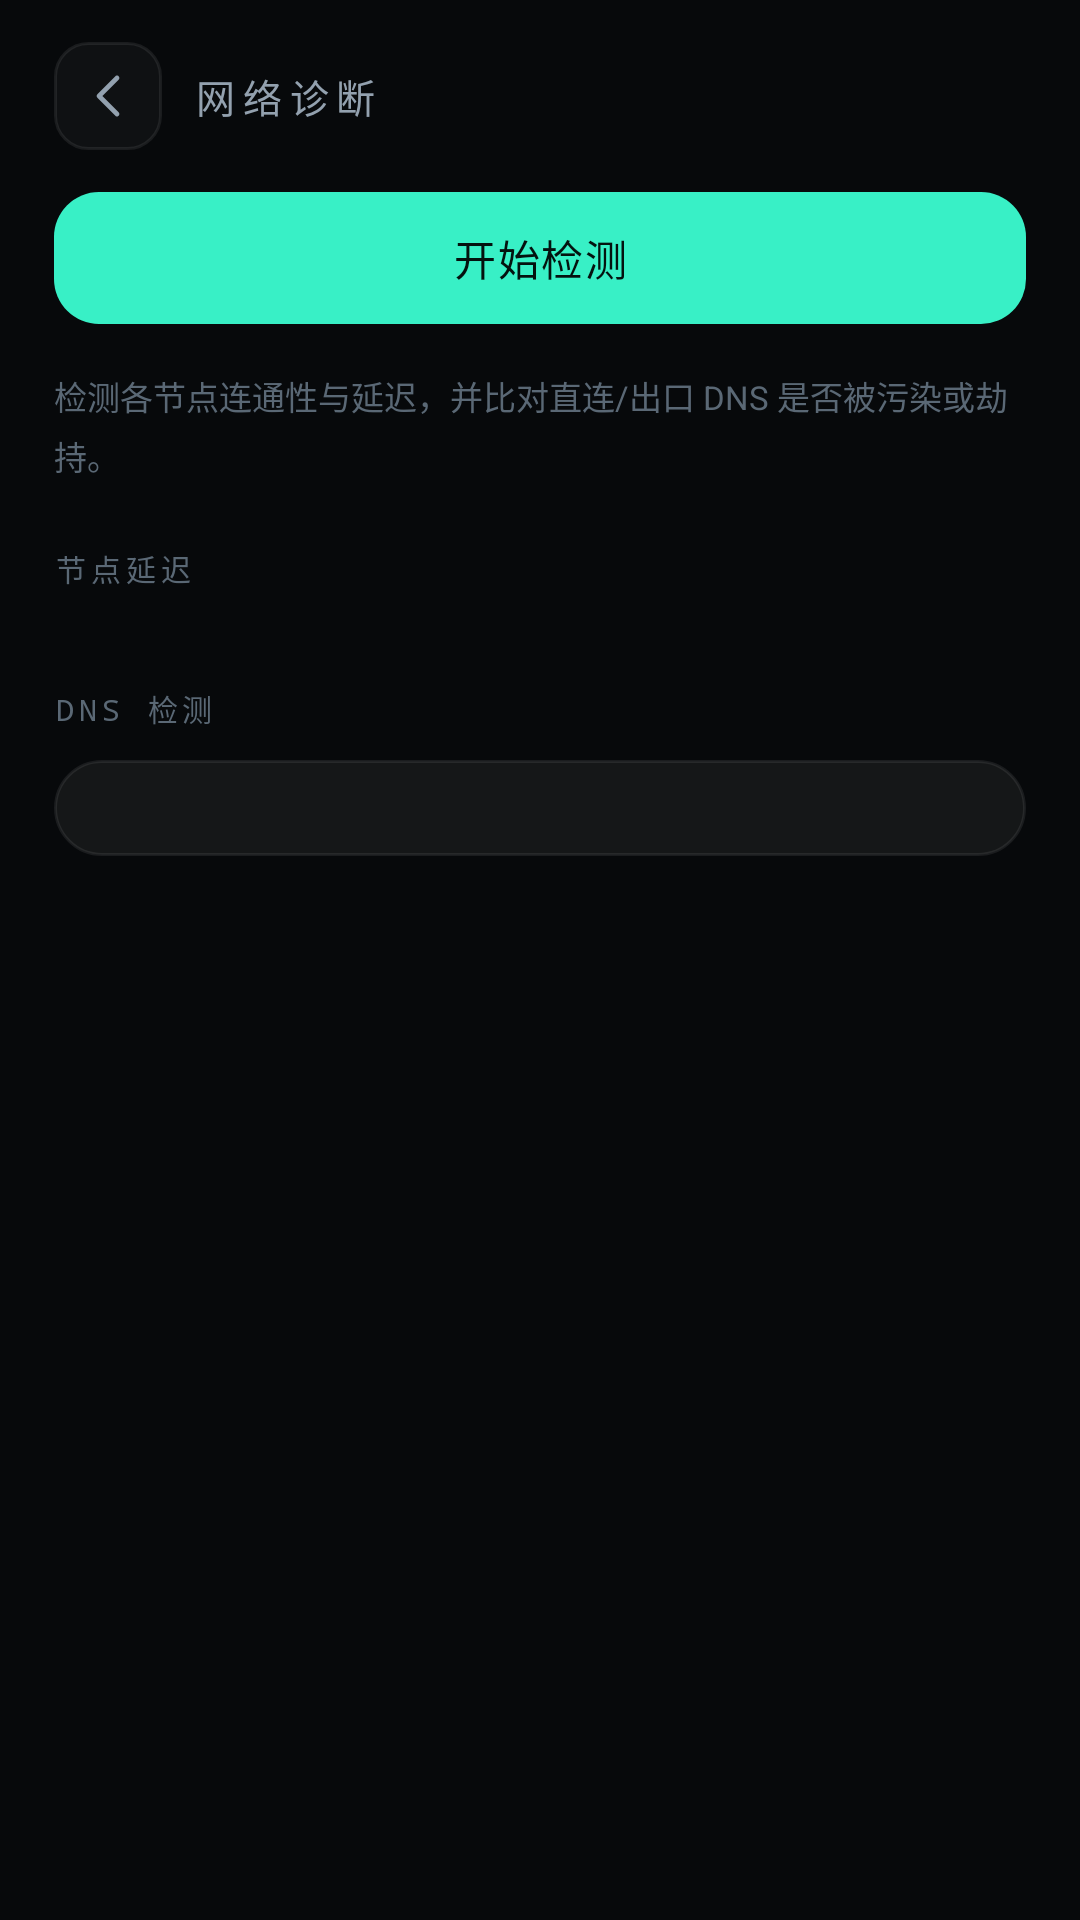

Screen size 1080w x 1920h. Icon name, then its center in pixels as [x,y]:
返回: [108,96]
